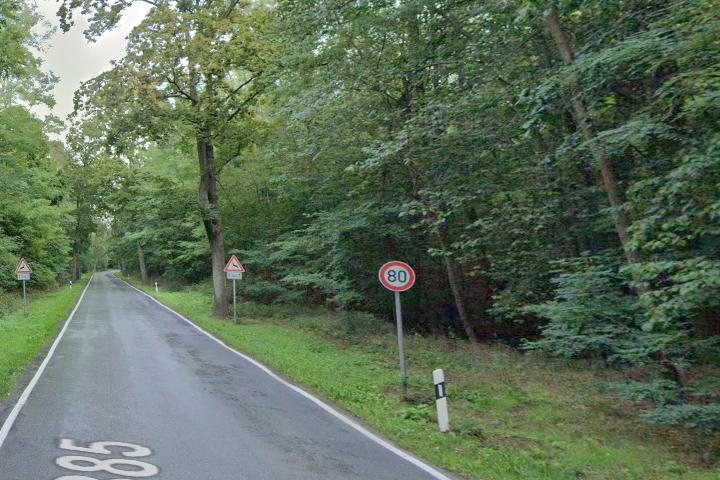traffic_sign: (377, 260, 416, 292), (223, 254, 246, 272), (15, 258, 33, 274)
